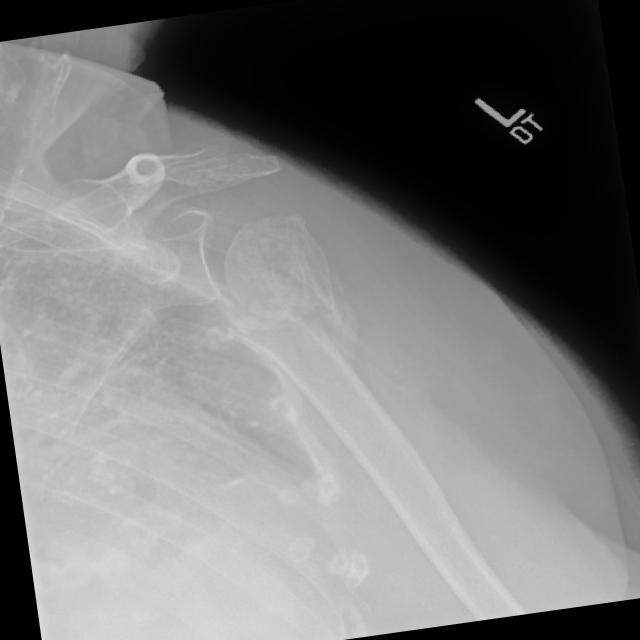shoulder fracture: (217, 276, 336, 396), (258, 190, 357, 320)
